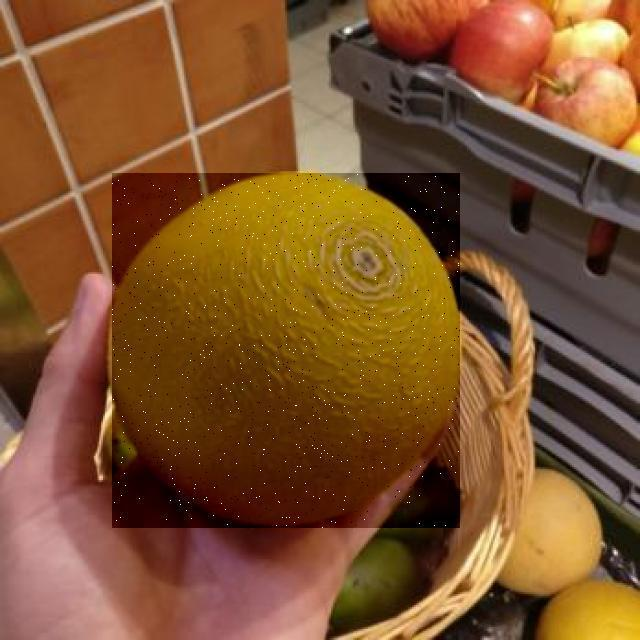Galia: (112, 173, 460, 528)
